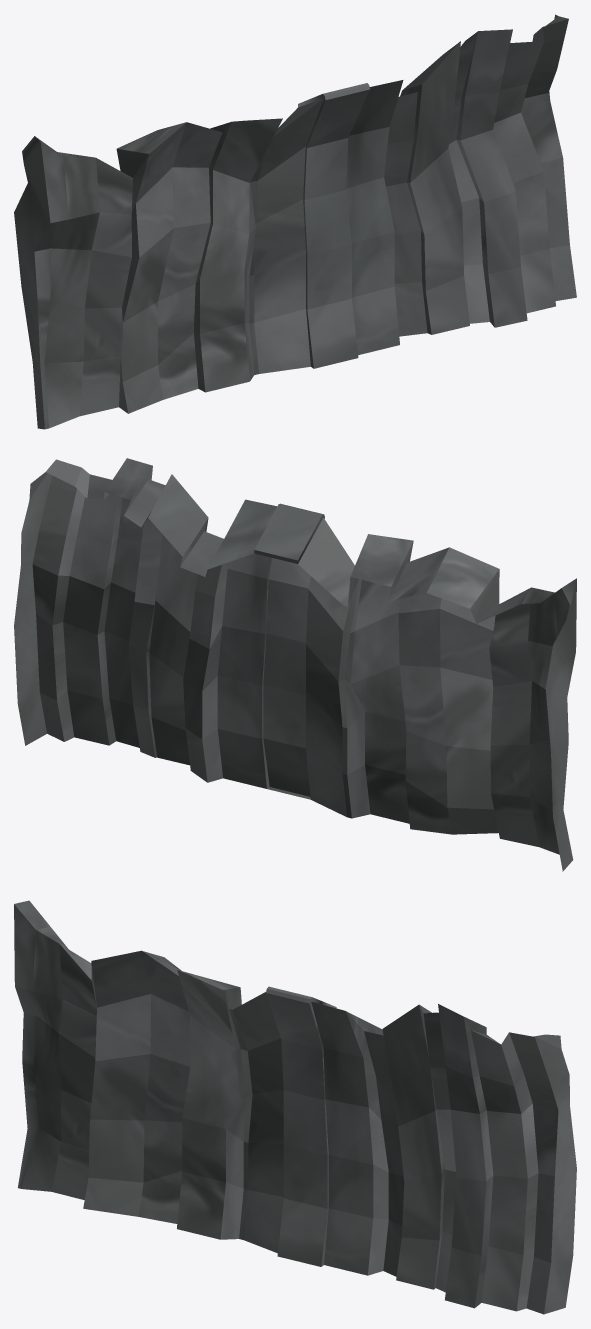
Rendered from Cliff1.obj.
3 renders of one model, top to bottom at view 1: azimuth 30°, elevation 25°; view 2: azimuth 150°, elevation 25°; view 3: azimuth 330°, elevation 25°, orthographic.
Parts seen in each view (by area): view 1: polySurface1; view 2: polySurface1; view 3: polySurface1.
Part boxes in pixels (<box>): polySurface1: <box>14,14,576,429</box>; polySurface1: <box>14,458,576,871</box>; polySurface1: <box>14,900,576,1314</box>.
Bounding box in the file's own units: 22.2 × 11.58 × 3.14.
